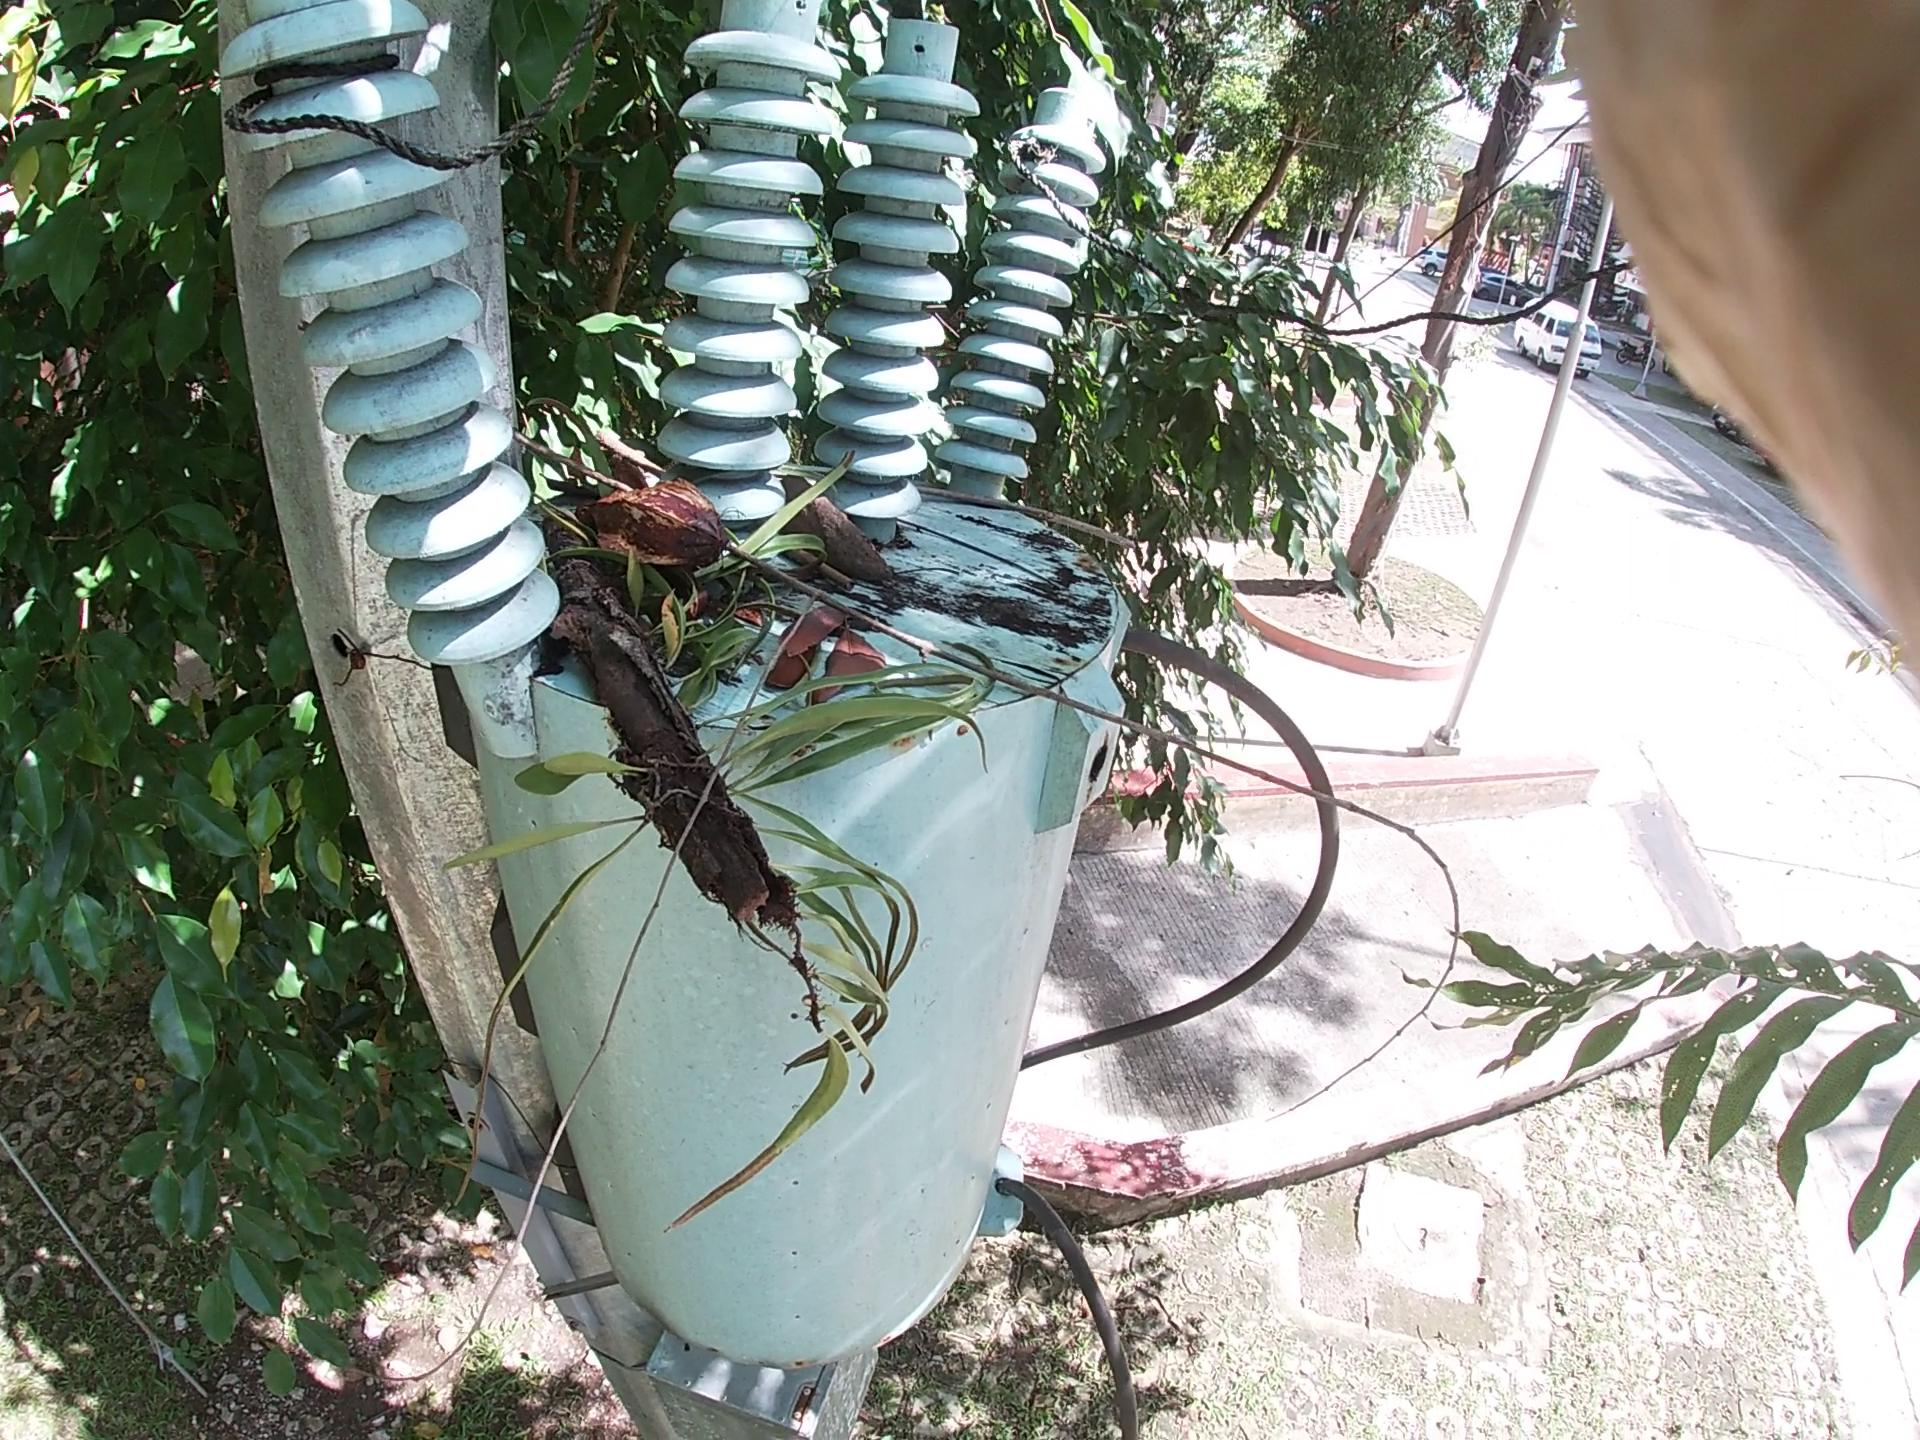branch with leaves: (491, 483, 862, 923)
leaf: (735, 610, 893, 675)
mahogany fruit: (750, 451, 930, 601), (550, 475, 742, 593)
tree branch: (528, 446, 1468, 962), (883, 469, 1166, 582), (783, 529, 892, 646)
